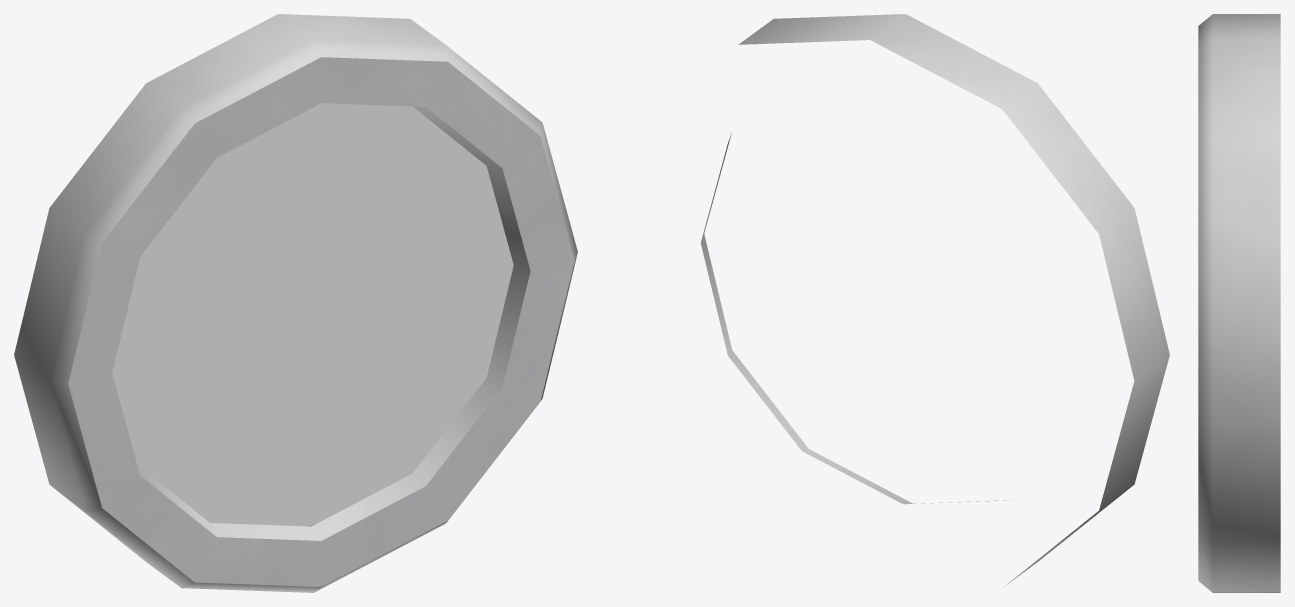
Rendered from SM_FS_Pin.glb.
The picture shows the model from 3 angles, left to right: view 1: azimuth 30°, elevation 25°; view 2: azimuth 150°, elevation 25°; view 3: azimuth 270°, elevation 25°; orthographic projection. The views are drawn at different scales.
Visible parts, largest first — view 1: SM_FS_Pin; view 2: SM_FS_Pin; view 3: SM_FS_Pin.
Part boxes in pixels (left/top/right/bottom): SM_FS_Pin: left=14, top=14, right=577, bottom=592; SM_FS_Pin: left=700, top=14, right=1169, bottom=586; SM_FS_Pin: left=1198, top=14, right=1280, bottom=592.
Size of the model in its own units: 0.024 by 0.024 by 0.0034.
1 material, 1 textured.
